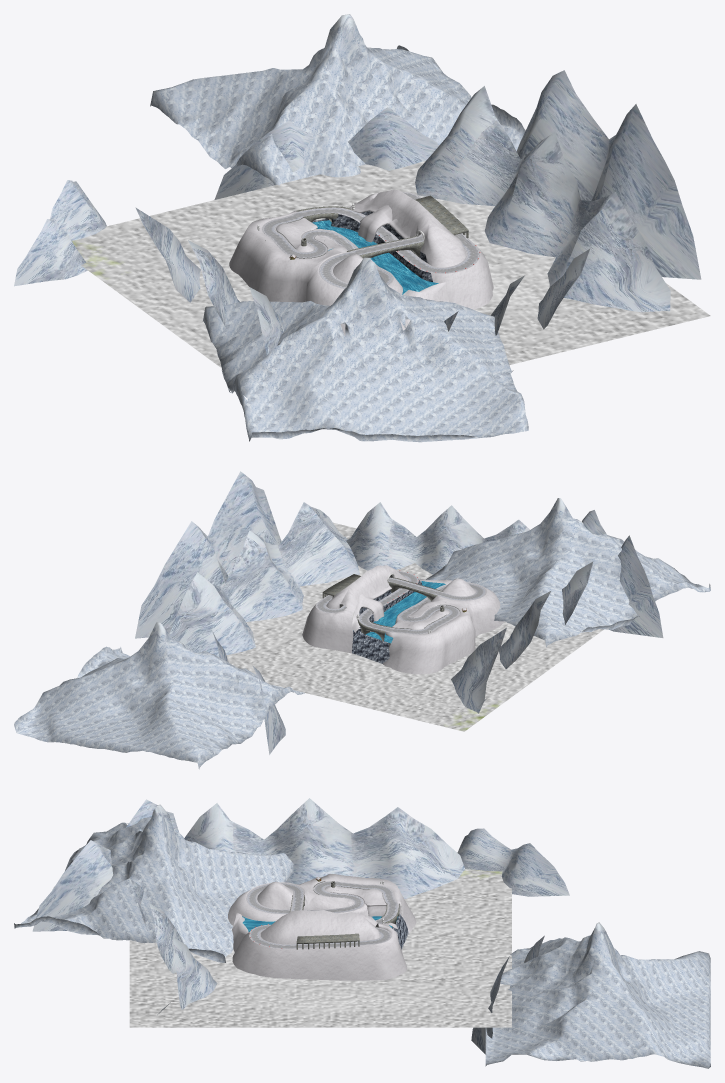
Rendered from snowmountain_track.glb.
3 views of the same model, one above another, from view 1: azimuth 30°, elevation 25°; view 2: azimuth 150°, elevation 25°; view 3: azimuth 270°, elevation 25° (orthographic). The views are drawn at different scales.
Parts seen in each view (by area): view 1: rockmountain.jpg__, concrete.png__, stk_generic_snow_a.png__, stktex_generic_roadSnow_a.png__, rockwall.jpg__, water_light.png__, roadwayborder.jpg__, snowyrock.png__; view 2: rockmountain.jpg__, concrete.png__, stk_generic_snow_a.png__, stktex_generic_roadSnow_a.png__, snowyrock.png__, rockwall.jpg__, roadwayborder.jpg__, water_light.png__; view 3: rockmountain.jpg__, concrete.png__, stk_generic_snow_a.png__, stktex_generic_roadSnow_a.png__, roadwayborder.jpg__, rockwall.jpg__.
Part boxes in pixels (x1,y1,x2,y2): rockmountain.jpg__: [14, 14, 701, 442]; concrete.png__: [72, 145, 710, 368]; stk_generic_snow_a.png__: [229, 189, 493, 336]; stktex_generic_roadSnow_a.png__: [263, 192, 478, 288]; rockwall.jpg__: [291, 195, 468, 258]; water_light.png__: [312, 220, 438, 294]; roadwayborder.jpg__: [261, 191, 480, 288]; snowyrock.png__: [311, 211, 432, 281]; rockmountain.jpg__: [14, 471, 710, 769]; concrete.png__: [218, 522, 603, 731]; stk_generic_snow_a.png__: [302, 565, 504, 674]; stktex_generic_roadSnow_a.png__: [317, 571, 485, 633]; snowyrock.png__: [352, 579, 421, 663]; rockwall.jpg__: [322, 574, 444, 641]; roadwayborder.jpg__: [315, 570, 486, 634]; water_light.png__: [366, 581, 445, 643]; rockmountain.jpg__: [14, 798, 710, 1068]; concrete.png__: [129, 869, 511, 1027]; stk_generic_snow_a.png__: [228, 874, 416, 980]; stktex_generic_roadSnow_a.png__: [247, 881, 397, 948]; roadwayborder.jpg__: [246, 881, 398, 949]; rockwall.jpg__: [290, 877, 399, 949].
Size of the model in its own units: 643 by 208 by 909.
Materials: 19 (18 with a texture image).
